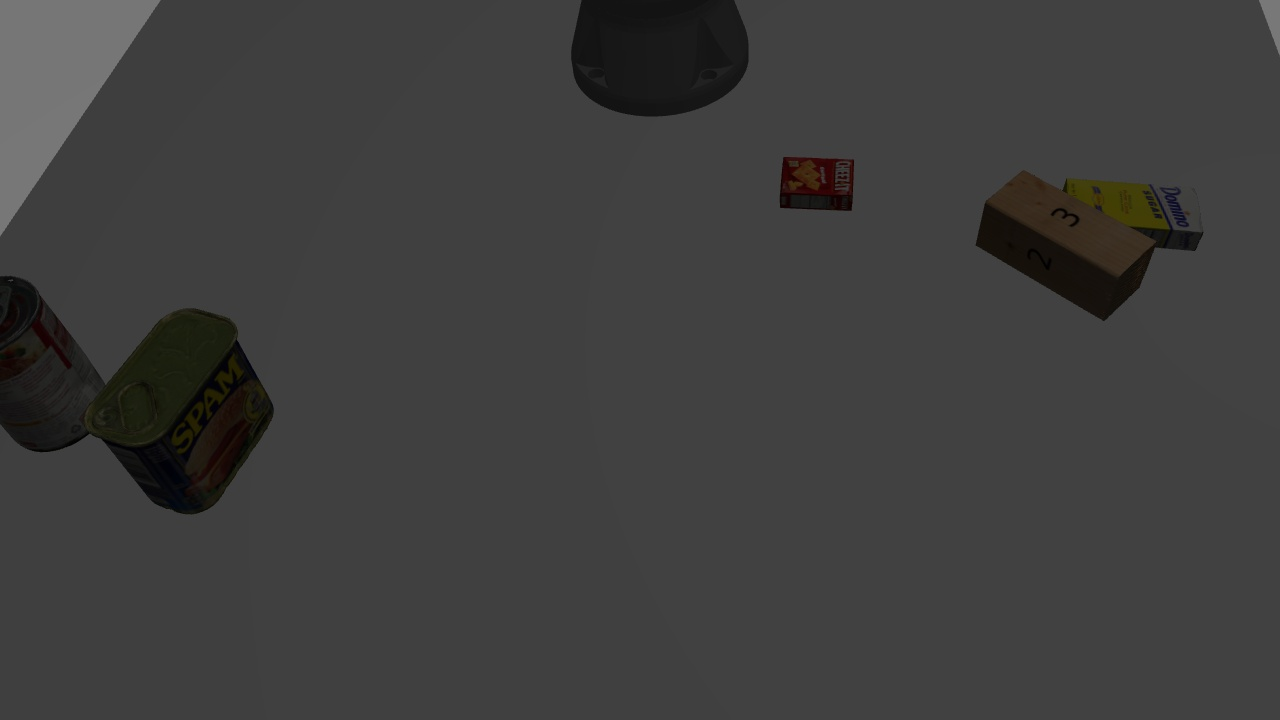cracker_box: (778, 149, 857, 213)
potted_meat_can: (82, 268, 281, 517)
sugar_box: (1067, 178, 1209, 254)
tomato_soup_can: (3, 273, 86, 482)
wood_block: (972, 169, 1153, 320)
